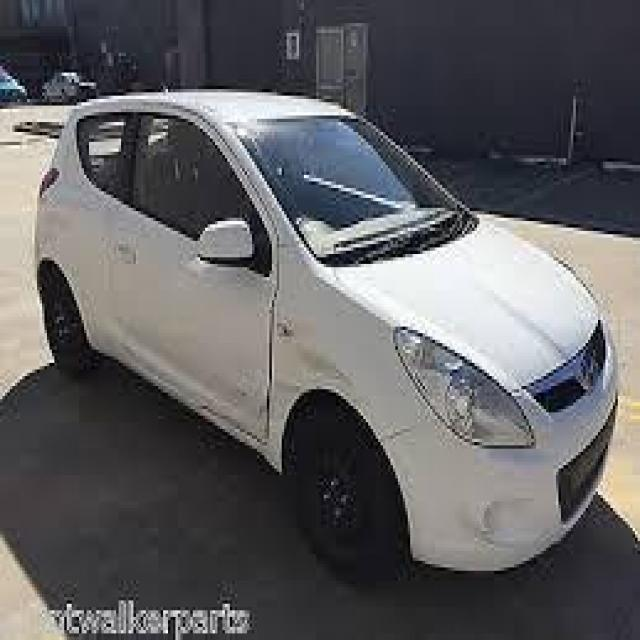damaged: (208, 382, 286, 452), (296, 343, 356, 386)
